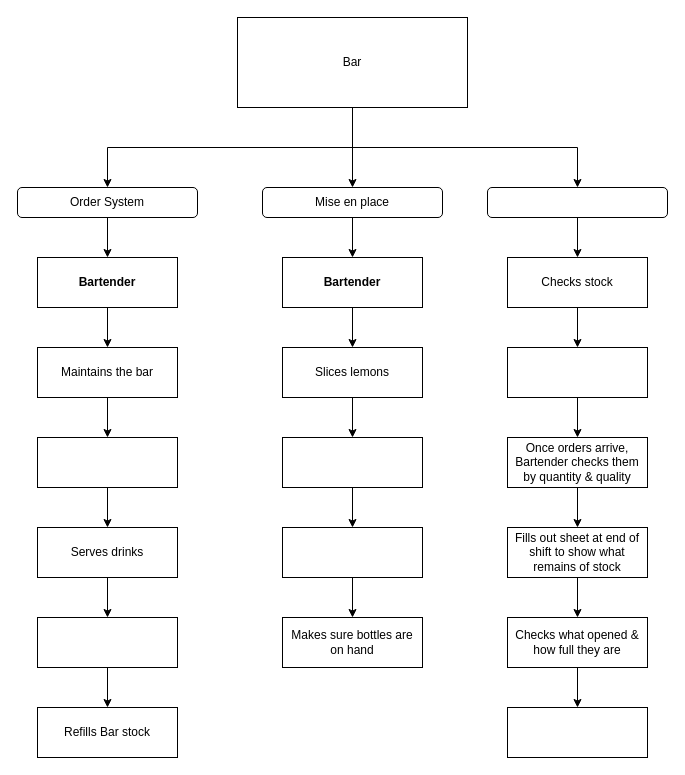
The diagram is 685 pixels wide and 775 high, and some of its shapes have lost their labels. The centre of each missing label's shape, as x and y in pixels:
At next shift, checks inventory again: (x=577, y=732)
Check Liquor Bottles: (x=352, y=552)
Checks ice bins: (x=352, y=462)
Cleans the bar: (x=107, y=642)
Places orders if necessary: (x=577, y=372)
Receives Order: (x=107, y=462)
Stock Management: (x=577, y=202)
